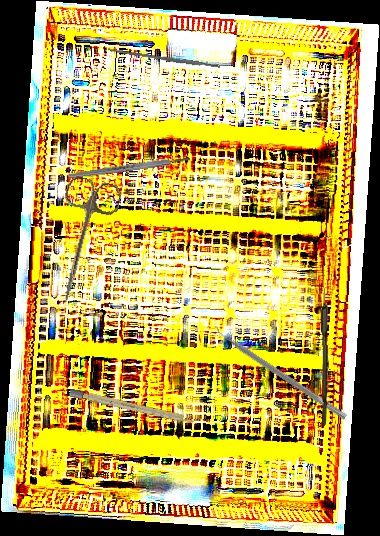Iris Scissors: (41, 174, 124, 309)
Scalpel Handle: (68, 388, 199, 426), (68, 155, 191, 180), (107, 47, 221, 70)
Spatula Surgical: (211, 323, 351, 420)
Surgical Spoon: (319, 264, 330, 426)
